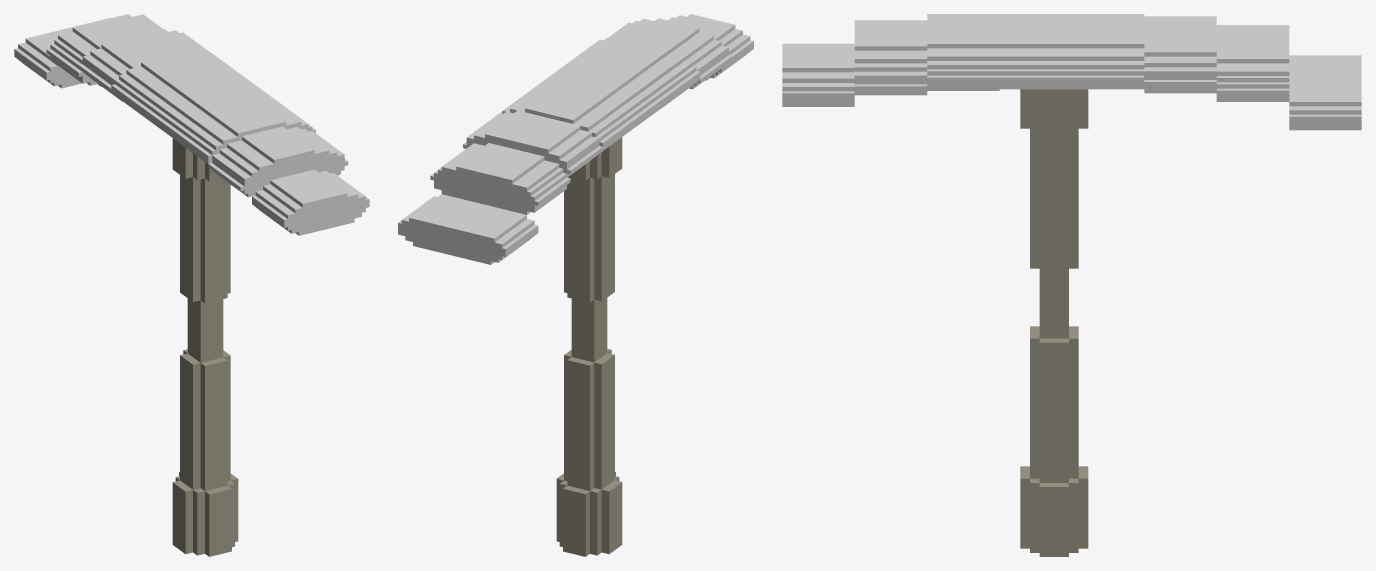
The model's file is Kilof_dziadka.fbx.
3 renders of one model, left to right at view 1: azimuth 30°, elevation 25°; view 2: azimuth 150°, elevation 25°; view 3: azimuth 270°, elevation 25°, orthographic. The views are drawn at different scales.
Visible parts, largest first — view 1: Cube.034; view 2: Cube.034; view 3: Cube.034.
Part boxes in pixels (<box>): Cube.034: <box>14,14,369,556</box>; Cube.034: <box>398,14,753,556</box>; Cube.034: <box>782,14,1361,556</box>.
Size of the model in its own units: 67.51 by 274 by 281.
